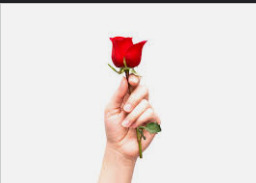RedRose: (103, 36, 154, 70)
